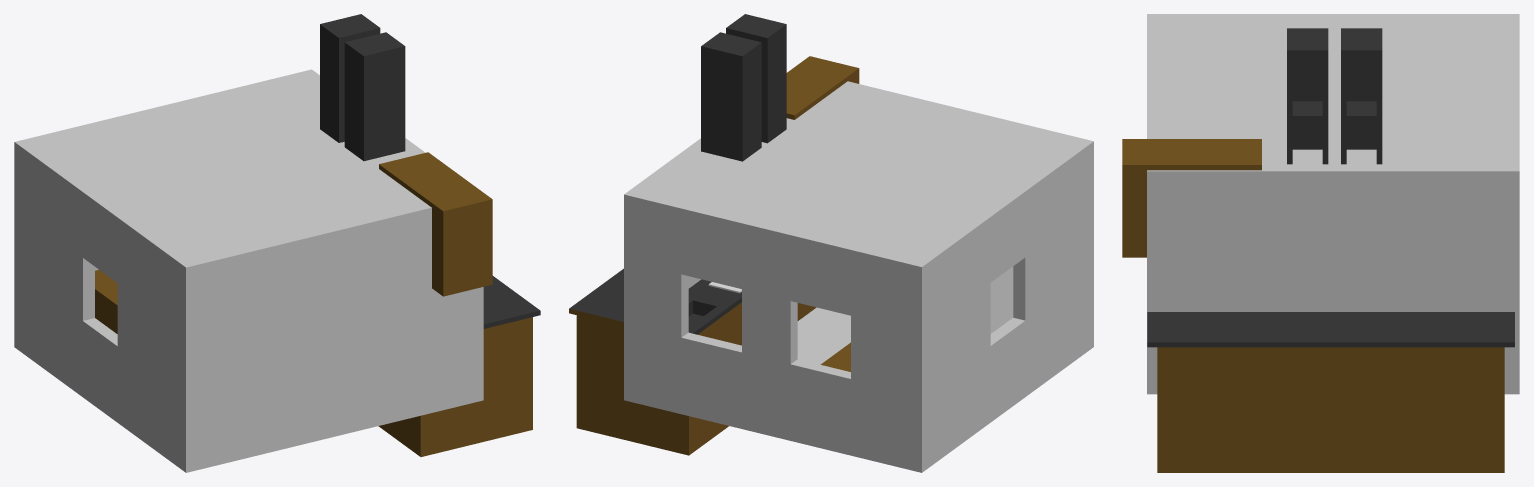
The model's file is kitchen.fbx.
3 renders of one model, left to right at view 1: azimuth 30°, elevation 25°; view 2: azimuth 150°, elevation 25°; view 3: azimuth 270°, elevation 25°, orthographic. The views are drawn at different scales.
Visible parts, largest first — view 1: Cube, Cube.001, Cube.003, Cube.012, Cube.011, Cube.006; view 2: Cube, Cube.001, Cube.011, Cube.012, Cube.003, Cube.007; view 3: Cube, Cube.001, Cube.003, Cube.012, Cube.011.
Boxes of the visible parts, x1,y1,x2,y2 form: Cube: [14, 69, 483, 472]; Cube.001: [378, 276, 540, 456]; Cube.003: [379, 152, 492, 296]; Cube.012: [344, 32, 405, 161]; Cube.011: [320, 14, 380, 142]; Cube.006: [95, 270, 117, 333]; Cube: [624, 81, 1093, 472]; Cube.001: [569, 268, 816, 455]; Cube.011: [701, 32, 761, 161]; Cube.012: [726, 14, 786, 143]; Cube.003: [786, 56, 859, 119]; Cube.007: [990, 266, 1013, 333]; Cube: [1147, 14, 1519, 394]; Cube.001: [1147, 312, 1514, 472]; Cube.003: [1122, 139, 1261, 257]; Cube.012: [1287, 28, 1328, 164]; Cube.011: [1341, 28, 1382, 164].
Size of the model in its own units: 632 by 608 by 566.
